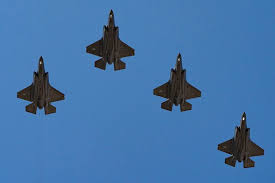F35: (86, 8, 134, 71), (153, 52, 201, 112), (17, 55, 65, 115), (217, 111, 265, 169)
